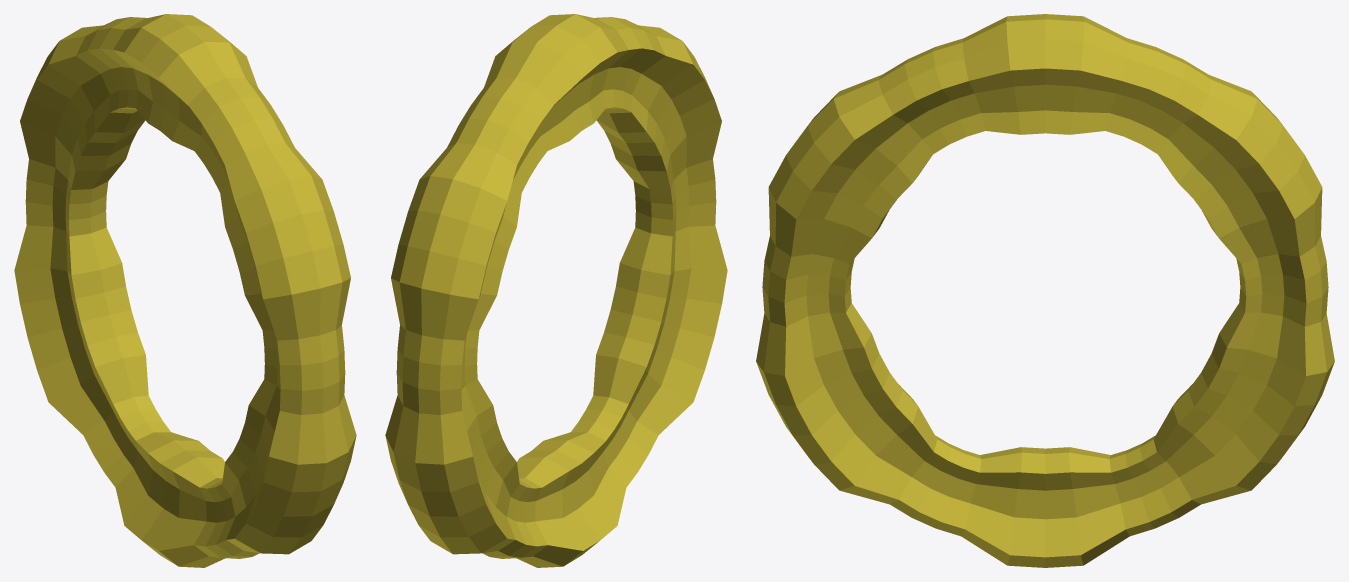
File: Hoop 1.fbx
3 views of the same model, side by side, from view 1: azimuth 30°, elevation 25°; view 2: azimuth 150°, elevation 25°; view 3: azimuth 270°, elevation 25° (orthographic). The views are drawn at different scales.
Visible parts, largest first — view 1: Torus; view 2: Torus; view 3: Torus.
Part boxes in pixels (box(x1,y1,x2,y2)): Torus: box(14, 14, 356, 567); Torus: box(385, 14, 727, 567); Torus: box(756, 14, 1334, 567).
Size of the model in its own units: 130 by 750 by 724.
